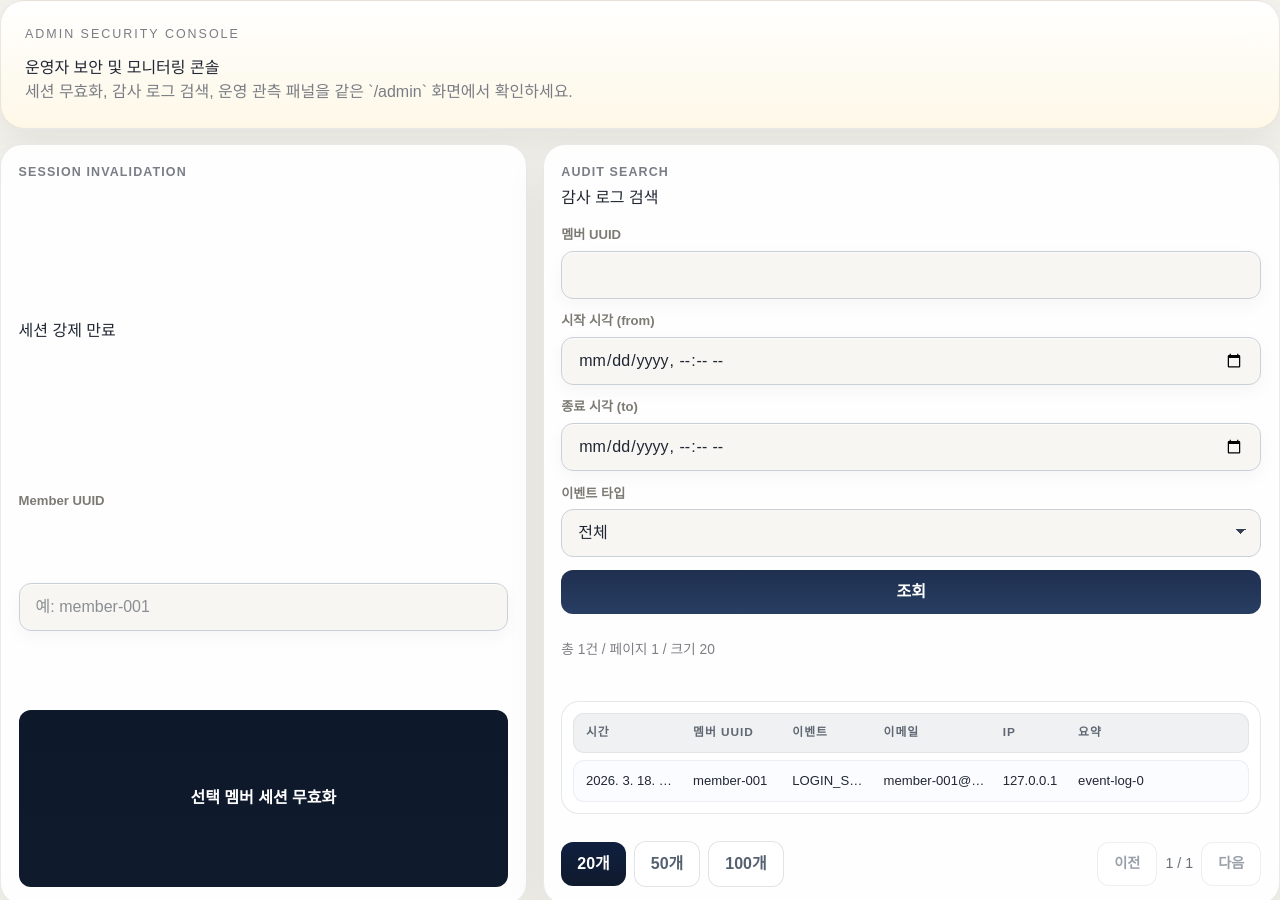
Test: AdminConsolePage › shows successful feedback for force-logout with invalidatedCount=0
Type "member-001" into the field with test id "admin-force-member-uuid" at [263, 607], box [19,583,508,631]
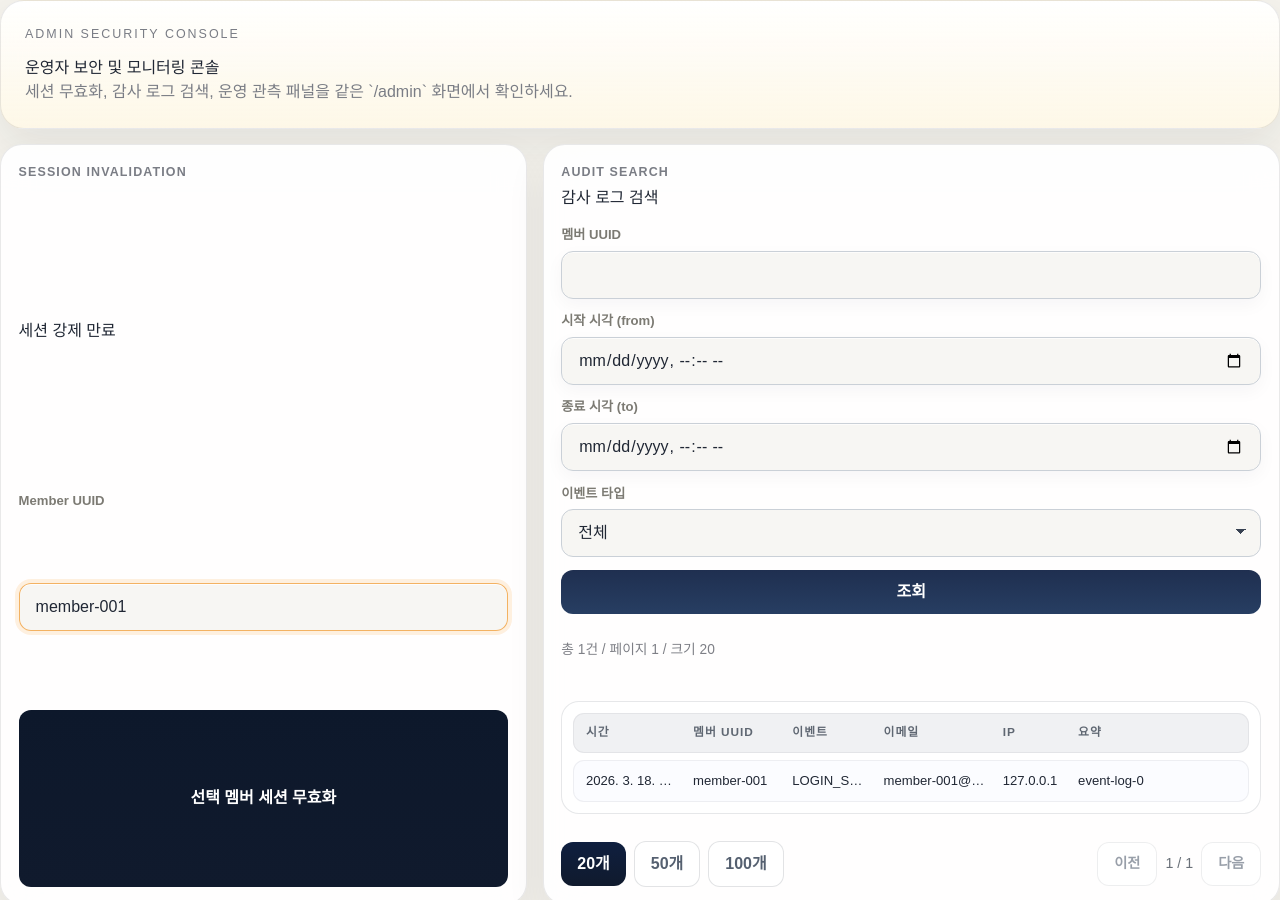
Click the button with test id "admin-force-submit" at [263, 798], box [19,710,508,887]
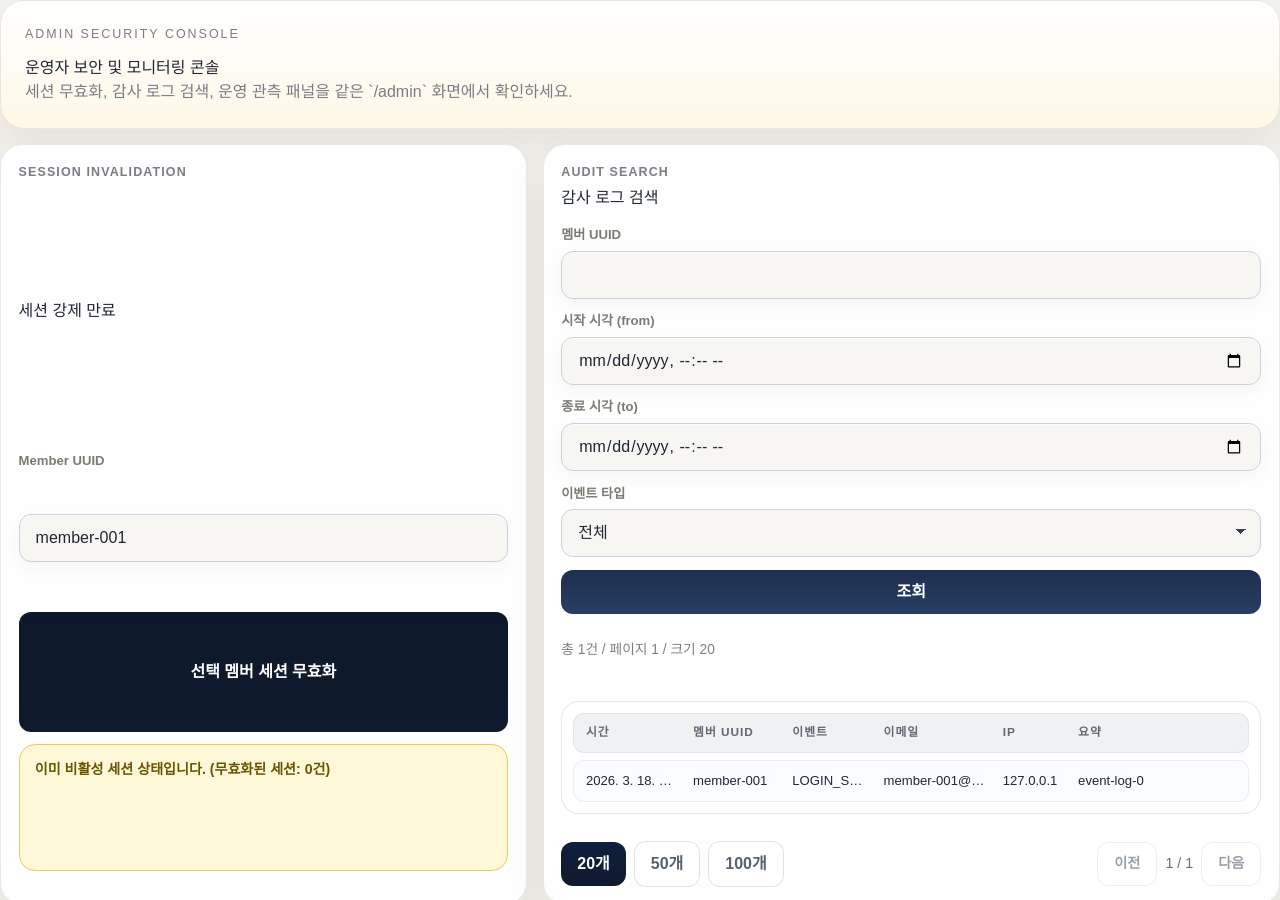
Expected: the text with test id "admin-force-feedback" reads "이미 비활성 세션 상태입니다. (무효화된 세션: 0건)", [35,761,330,777]
